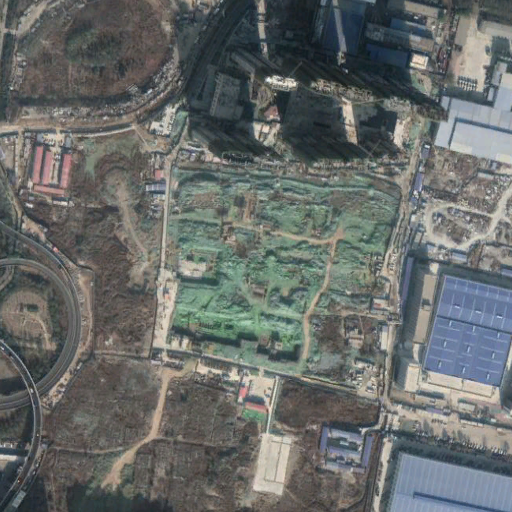cw: (167, 164, 403, 392)
